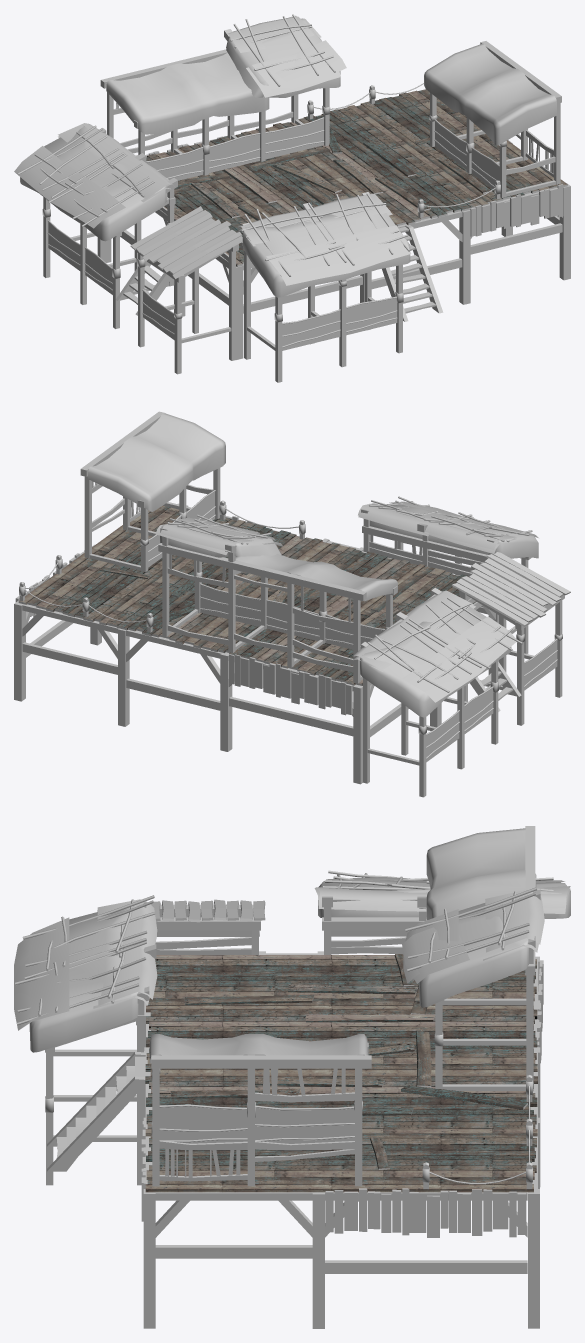
The model's file is House3.fbx.
The picture shows the model from 3 angles, top to bottom: view 1: azimuth 30°, elevation 25°; view 2: azimuth 150°, elevation 25°; view 3: azimuth 270°, elevation 25°; orthographic projection. The views are drawn at different scales.
Parts seen in each view (by area): view 1: base, stairs1, stairs2; view 2: base, stairs2; view 3: base, stairs1.
Boxes of the visible parts, x1,y1,x2,y2 form: base: [14, 14, 570, 382]; stairs1: [382, 224, 443, 321]; stairs2: [115, 223, 171, 315]; base: [14, 411, 570, 797]; stairs2: [470, 662, 521, 711]; base: [14, 826, 570, 1328]; stairs1: [47, 1051, 147, 1171].
Bounding box in the file's own units: 17.64 × 8.2 × 13.73.
